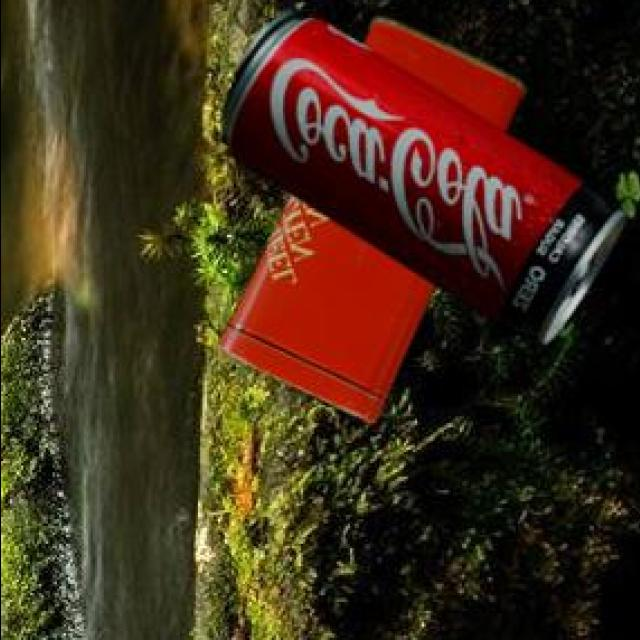logam: (216, 3, 623, 341), (214, 12, 523, 420)
